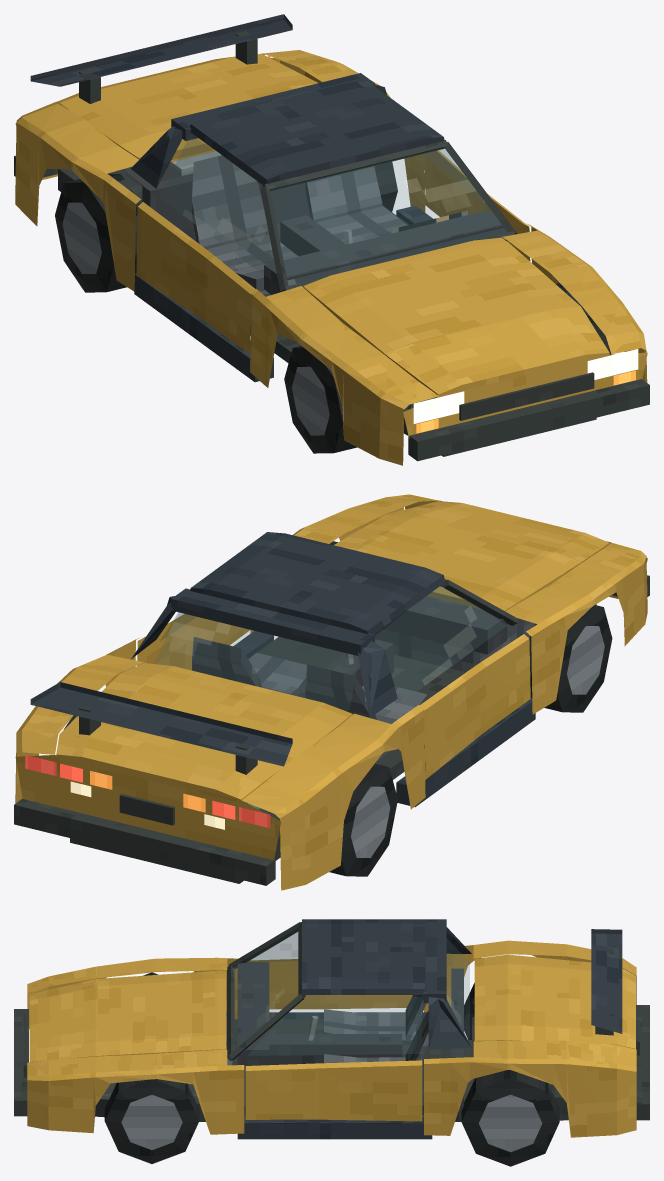
File: torrel-1988-mid.glb
3 views of the same model, one above another, from view 1: azimuth 30°, elevation 25°; view 2: azimuth 150°, elevation 25°; view 3: azimuth 270°, elevation 25° (orthographic). The views are drawn at different scales.
Parts seen in each view (by area): view 1: body, hood, door_r, roof_panel, trunk, wheel_rr, wheel_fr, door_l, light_head_r, light_head_l, wheel_rl; view 2: body, trunk, hood, door_r, roof_panel, wheel_rr, wheel_fr, door_l; view 3: body, door_l, hood, trunk, roof_panel, wheel_rl, wheel_fl, door_r, wheel_rr.
Part boxes in pixels (left/top/right/bottom): body: left=14, top=14, right=649, bottom=465; hood: left=303, top=237, right=609, bottom=397; door_r: left=136, top=135, right=270, bottom=354; roof_panel: left=190, top=81, right=444, bottom=185; trunk: left=56, top=54, right=318, bottom=161; wheel_rr: left=55, top=174, right=140, bottom=292; wheel_fr: left=284, top=346, right=356, bottom=453; door_l: left=424, top=149, right=530, bottom=261; light_head_r: left=413, top=391, right=464, bottom=423; light_head_l: left=587, top=349, right=638, bottom=379; wheel_rl: left=376, top=161, right=397, bottom=211; body: left=14, top=494, right=649, bottom=890; trunk: left=56, top=663, right=352, bottom=802; hood: left=334, top=501, right=609, bottom=611; door_r: left=375, top=586, right=530, bottom=779; roof_panel: left=190, top=532, right=444, bottom=634; wheel_rr: left=329, top=763, right=397, bottom=876; wheel_fr: left=529, top=605, right=612, bottom=712; door_l: left=137, top=613, right=249, bottom=670; body: left=14, top=919, right=649, bottom=1139; door_l: left=245, top=995, right=422, bottom=1121; hood: left=29, top=970, right=226, bottom=1062; trunk: left=474, top=954, right=635, bottom=1049; roof_panel: left=302, top=919, right=425, bottom=994; wheel_rl: left=461, top=1070, right=559, bottom=1166; wheel_fl: left=104, top=1079, right=199, bottom=1163; door_r: left=248, top=931, right=412, bottom=1009; wheel_rr: left=464, top=983, right=474, bottom=1039.
Size of the model in its own units: 1.92 by 1.16 by 4.19.
Materials: 5 (5 with a texture image).
